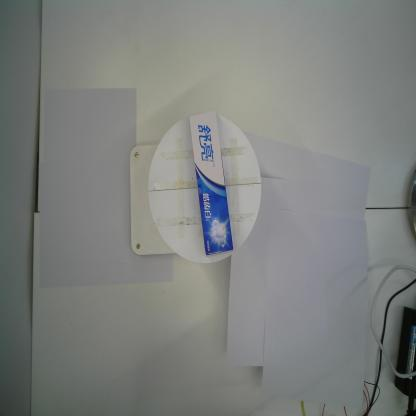Personal Hygiene: (190, 108, 234, 256)
